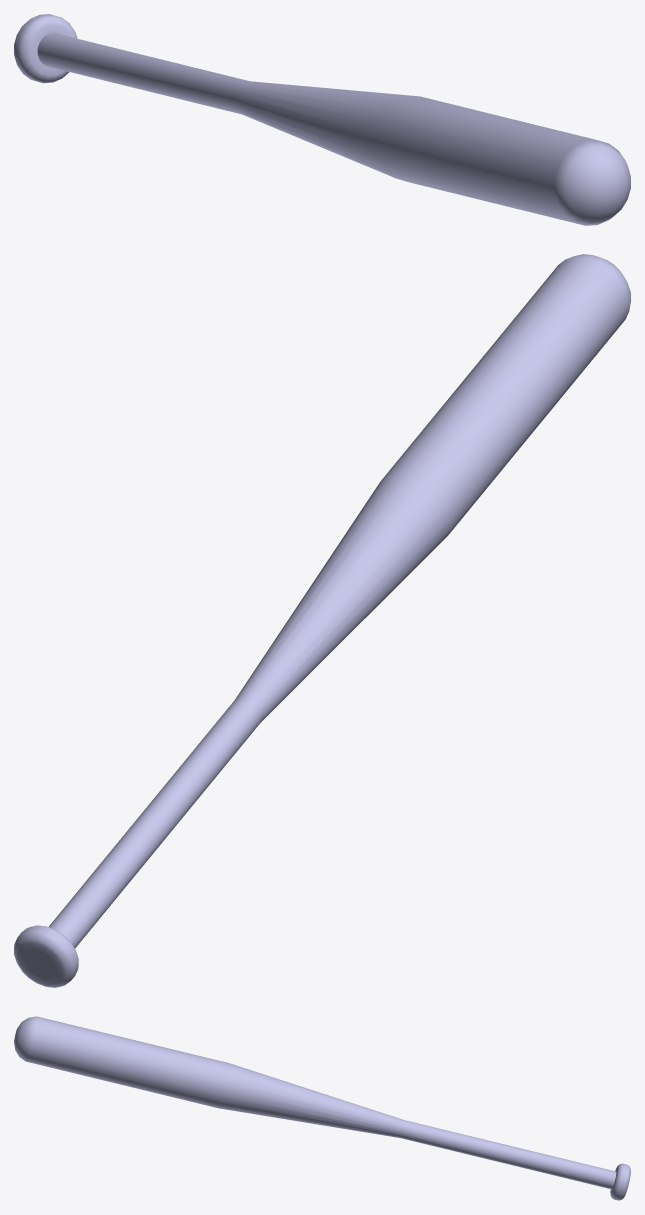
Rendered from Girl_Anim_CloseRangeAttack_ver2.0.0_BatOnly.fbx.
3 views of the same model, one above another, from view 1: azimuth 30°, elevation 25°; view 2: azimuth 150°, elevation 25°; view 3: azimuth 270°, elevation 25° (orthographic). The views are drawn at different scales.
Visible parts, largest first — view 1: pCylinder1; view 2: pCylinder1; view 3: pCylinder1.
Boxes of the visible parts, <box> form: pCylinder1: <box>14,14,630,225</box>; pCylinder1: <box>14,254,630,987</box>; pCylinder1: <box>14,1016,630,1200</box>.
Size of the model in its own units: 5.04 by 21.44 by 66.41.
